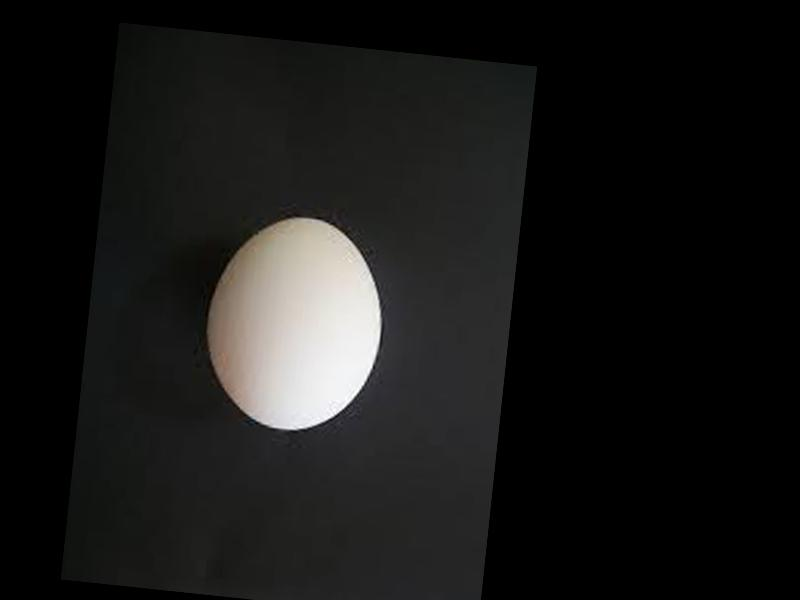Eggs: (199, 206, 391, 433)
